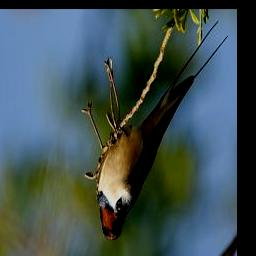Swallow: (99, 20, 229, 243)
